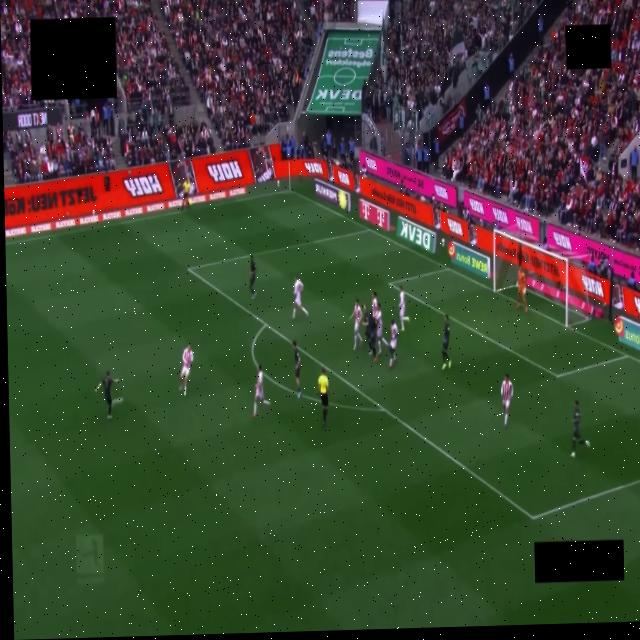player: (95, 371, 118, 419), (570, 400, 589, 457), (252, 366, 269, 417), (500, 373, 512, 428), (349, 300, 362, 349), (179, 347, 192, 395), (375, 303, 387, 355), (292, 277, 307, 318), (398, 285, 410, 331), (292, 341, 301, 398), (388, 318, 398, 368), (516, 266, 526, 312), (367, 313, 376, 362), (441, 315, 449, 370), (362, 304, 371, 342), (249, 255, 255, 298), (371, 292, 378, 316)
referee: (318, 369, 328, 427)
